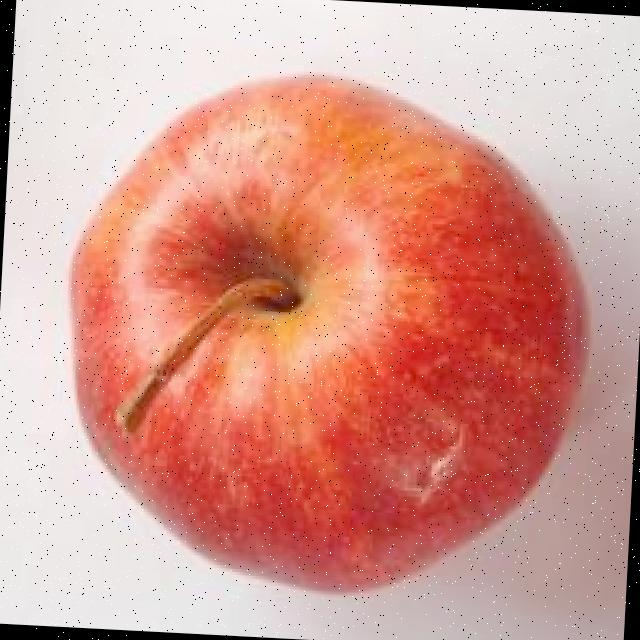apple: (24, 41, 618, 624)
